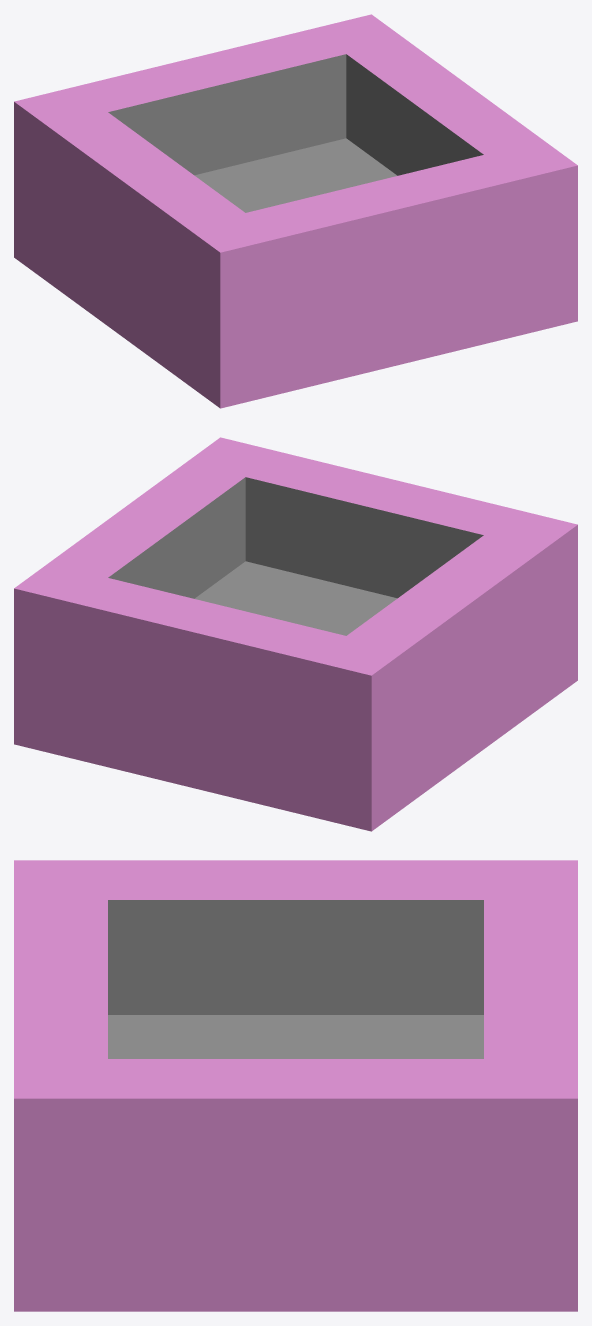
File: Pool.FBX
The picture shows the model from 3 angles, top to bottom: view 1: azimuth 30°, elevation 25°; view 2: azimuth 150°, elevation 25°; view 3: azimuth 270°, elevation 25°; orthographic projection. The views are drawn at different scales.
Visible parts, largest first — view 1: Box001; view 2: Box001; view 3: Box001.
Part boxes in pixels (x1,y1,x2,y2): Box001: (14, 14, 577, 408); Box001: (14, 437, 577, 831); Box001: (14, 860, 577, 1311).
Size of the model in its own units: 120 by 50 by 120.
